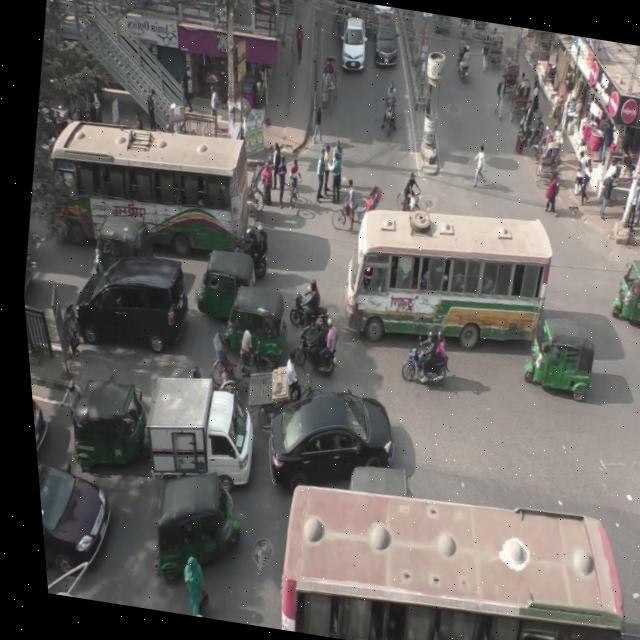cng: (129, 456, 252, 589), (48, 358, 155, 473), (506, 306, 597, 408), (215, 276, 296, 374), (179, 238, 263, 328), (601, 246, 640, 330)
rikshaw: (320, 168, 387, 245), (518, 126, 577, 196), (499, 70, 538, 139), (489, 35, 527, 101), (473, 21, 511, 80)
